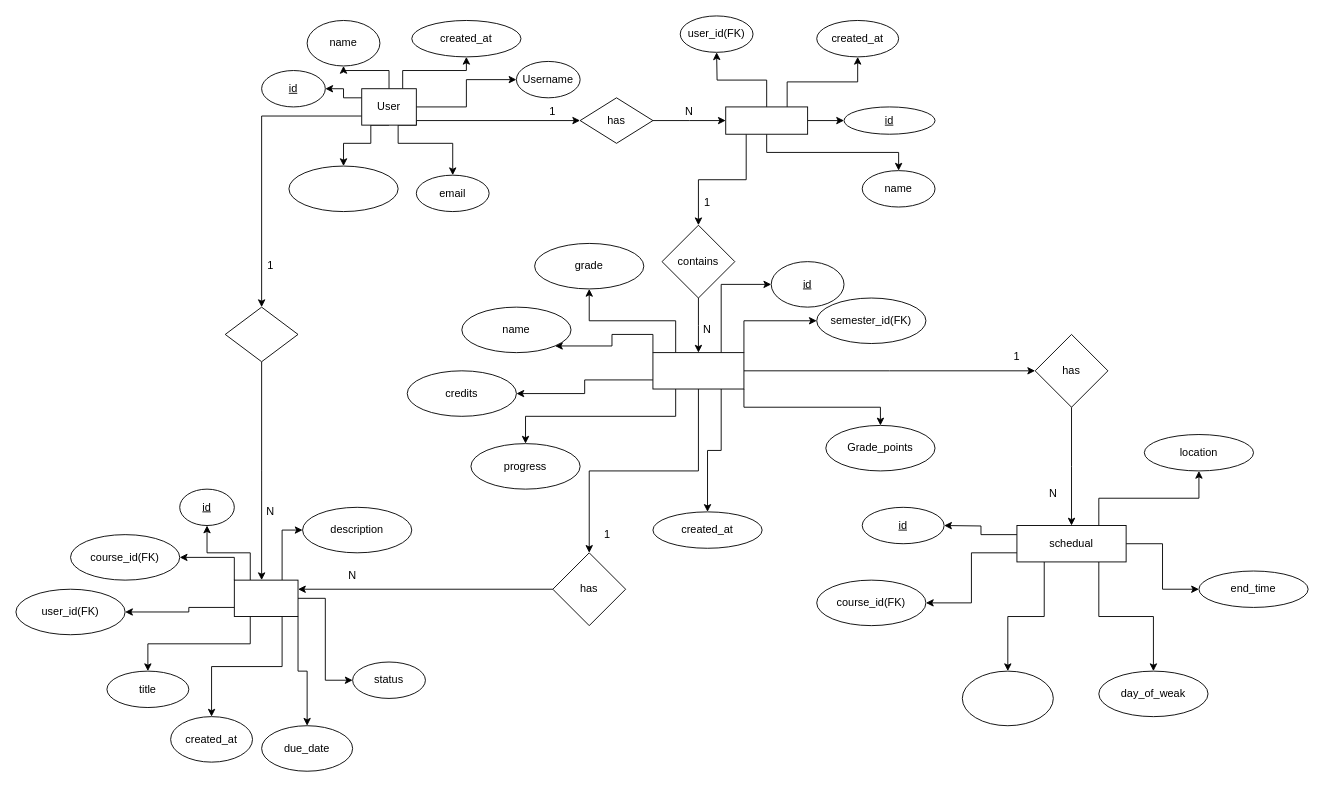
This 1324x787 diagram has some shape labels left out. The shapes that lost their labels are listed below. From the top down, each one's centre as x and y in pixels, then its label:
At point (766, 120): "semester".
At point (343, 188): "password_hash".
At point (261, 334): "creates".
At point (698, 370): "course".
At point (265, 598): "task".
At point (1007, 698): "start_time".
